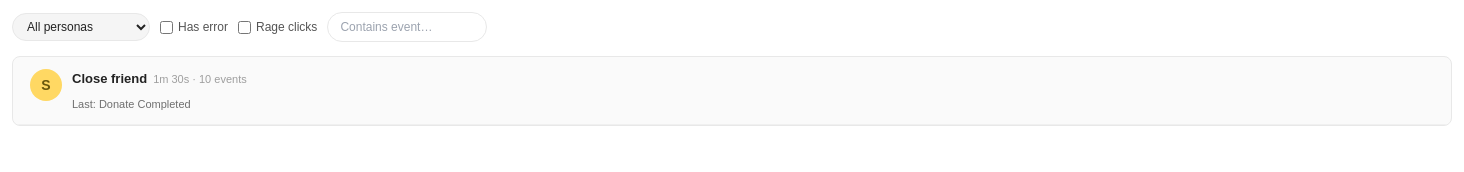
Test case: ReplaySurface — CB-40 click and filter fixes › "Rage clicks" checkbox ON filters out the session (rageClickCount=0) → empty state
Check: the option with aria-label "sess-001" is shown, box [13,57,1451,125]
What coordinates should you click on to do the following:
click the checkbox labelled "Rage clicks"
I would click on:
 (244, 27)
Its box is [238,20,251,34].
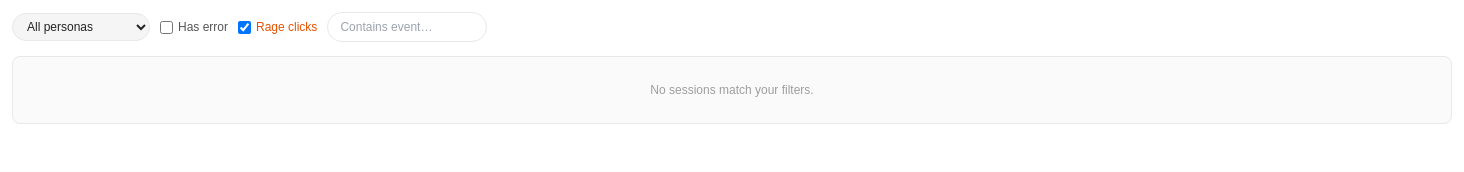
Check: the text "No sessions match your filters." is shown, box [650,83,814,97]
